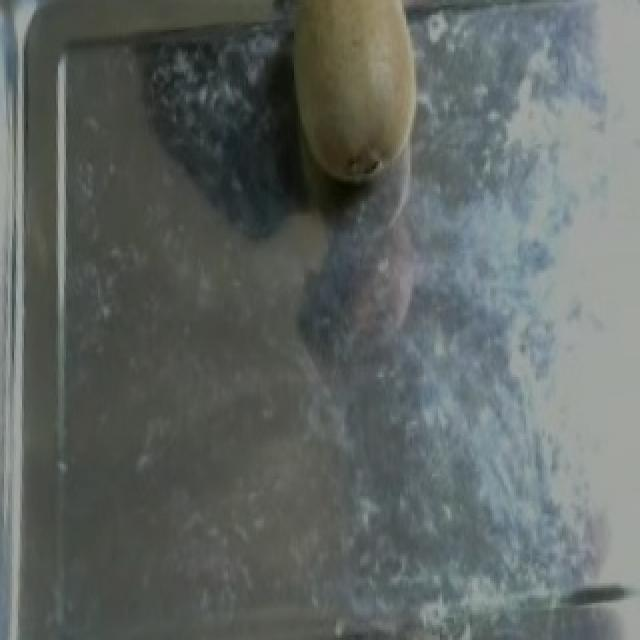Fruit: (254, 0, 444, 208)
